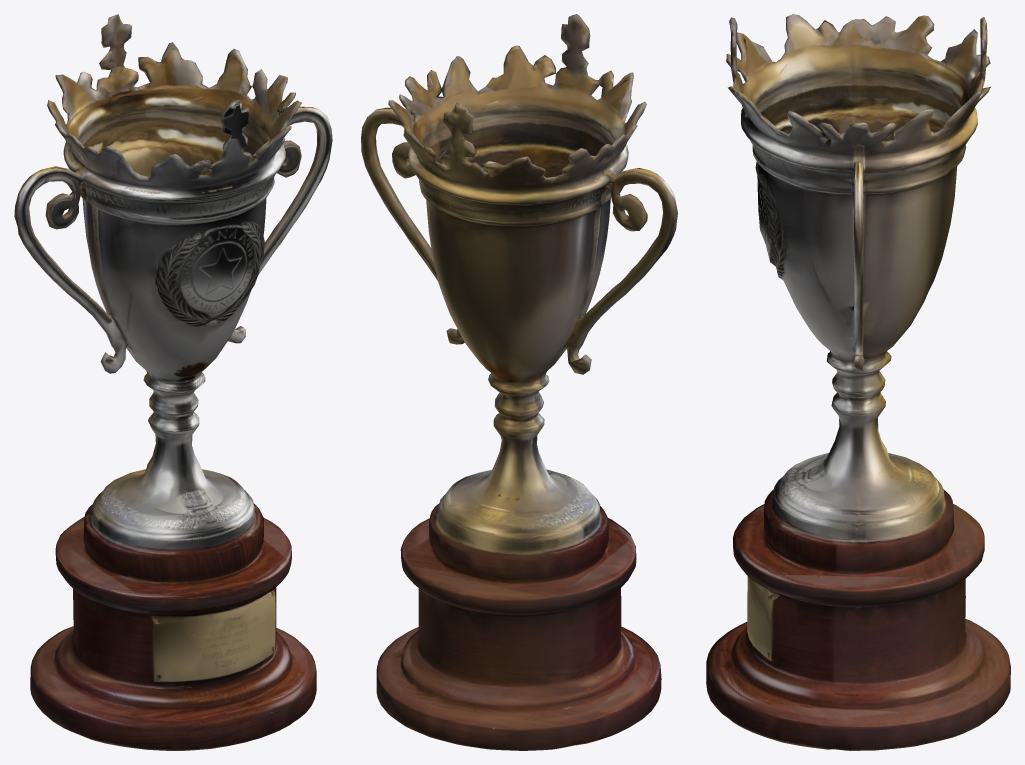
Rendered from carabao cup.glb.
3 views of the same model, side by side, from view 1: azimuth 30°, elevation 25°; view 2: azimuth 150°, elevation 25°; view 3: azimuth 270°, elevation 25° (orthographic). The views are drawn at different scales.
Visible parts, largest first — view 1: Mesh_0_Material.001_0; view 2: Mesh_0_Material.001_0; view 3: Mesh_0_Material.001_0.
Part boxes in pixels (x1,y1,x2,y2): Mesh_0_Material.001_0: [14, 14, 332, 750]; Mesh_0_Material.001_0: [361, 14, 677, 750]; Mesh_0_Material.001_0: [706, 14, 1010, 750].
Bounding box in the file's own units: 1.04 × 2.01 × 0.8257.
1 material, 1 textured.
